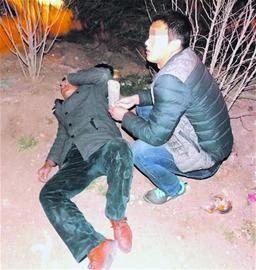bending: (105, 4, 237, 209)
down: (31, 63, 154, 270)
